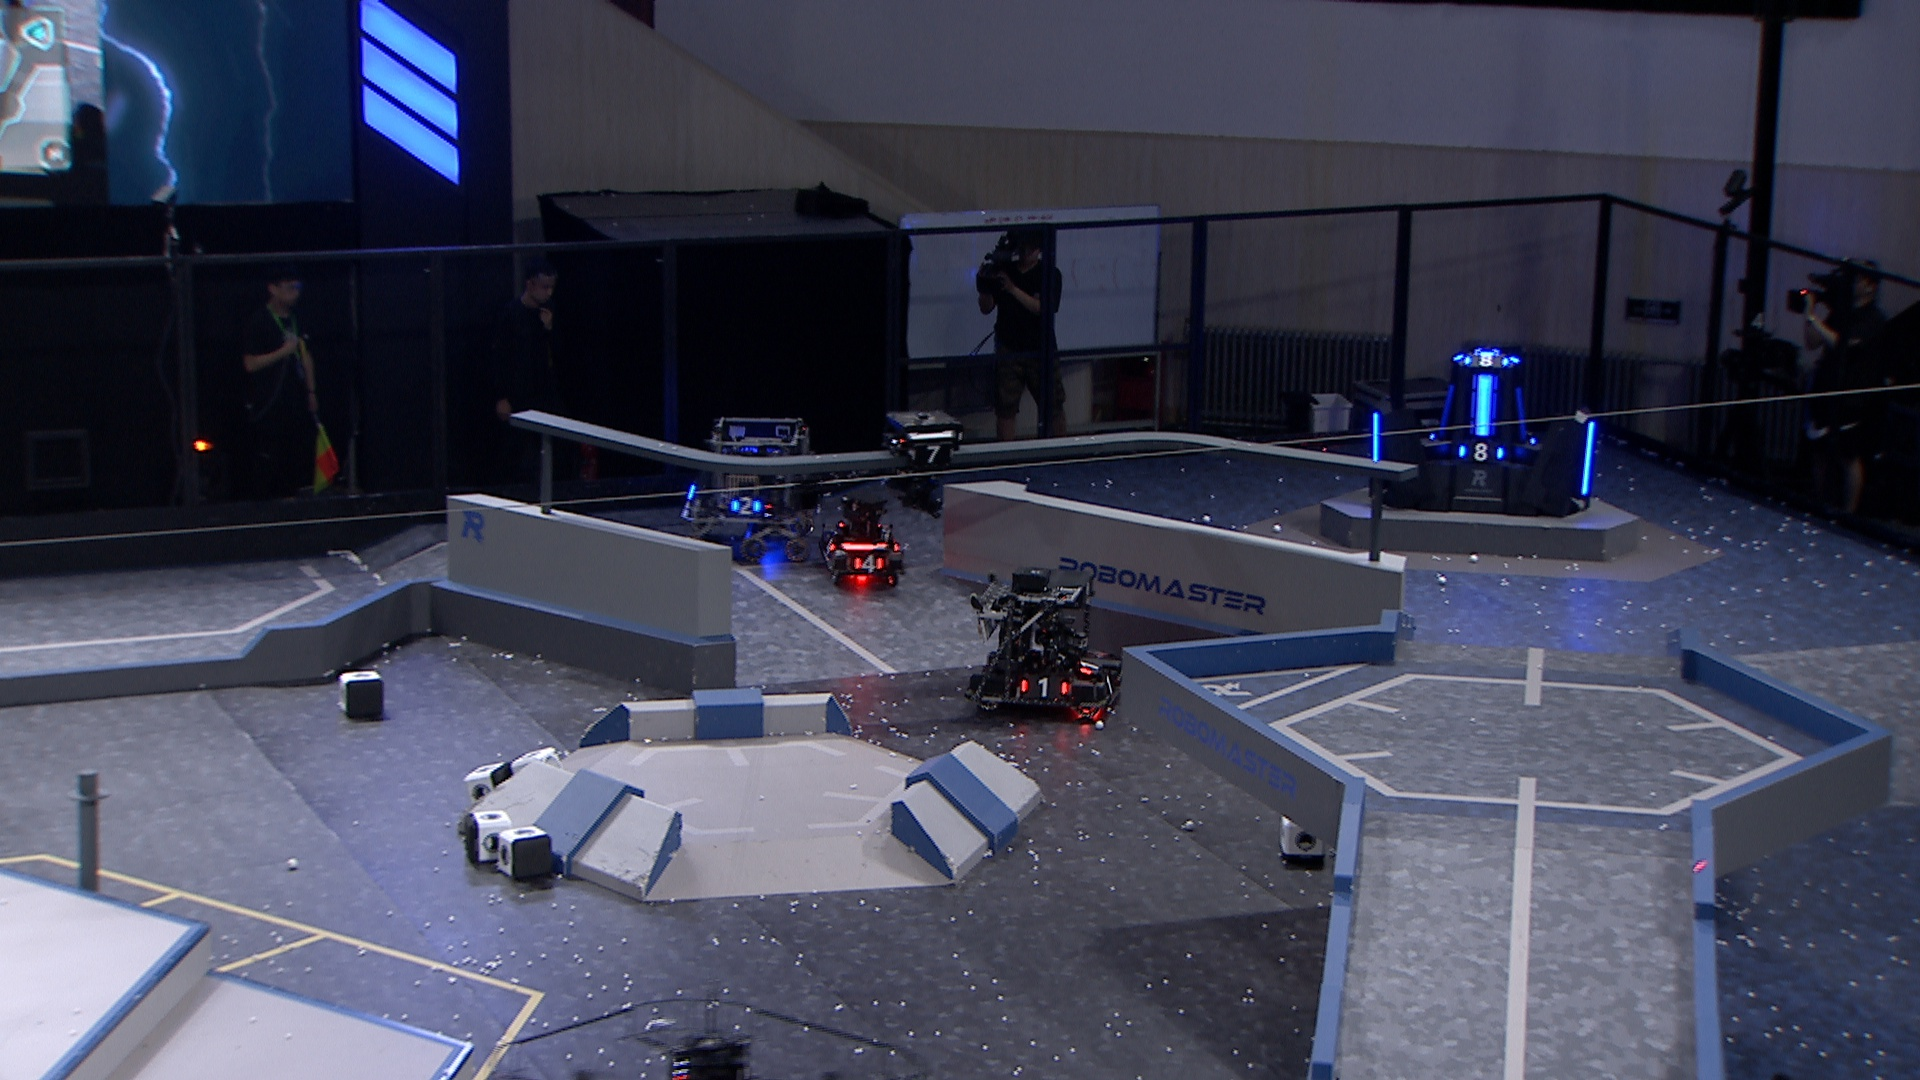armor: (1472, 372, 1495, 440), (1433, 384, 1457, 442), (1578, 419, 1596, 498), (1019, 675, 1072, 698), (1455, 440, 1505, 463), (1513, 384, 1531, 442), (909, 444, 953, 467), (727, 495, 765, 518), (1465, 352, 1510, 371), (851, 553, 884, 574), (1371, 411, 1385, 462), (1076, 657, 1102, 676), (1101, 674, 1120, 699), (820, 535, 836, 556)
base: (1366, 347, 1600, 518)
car: (961, 571, 1122, 725), (679, 414, 829, 562), (814, 491, 907, 589)
watcher: (880, 410, 961, 518)
